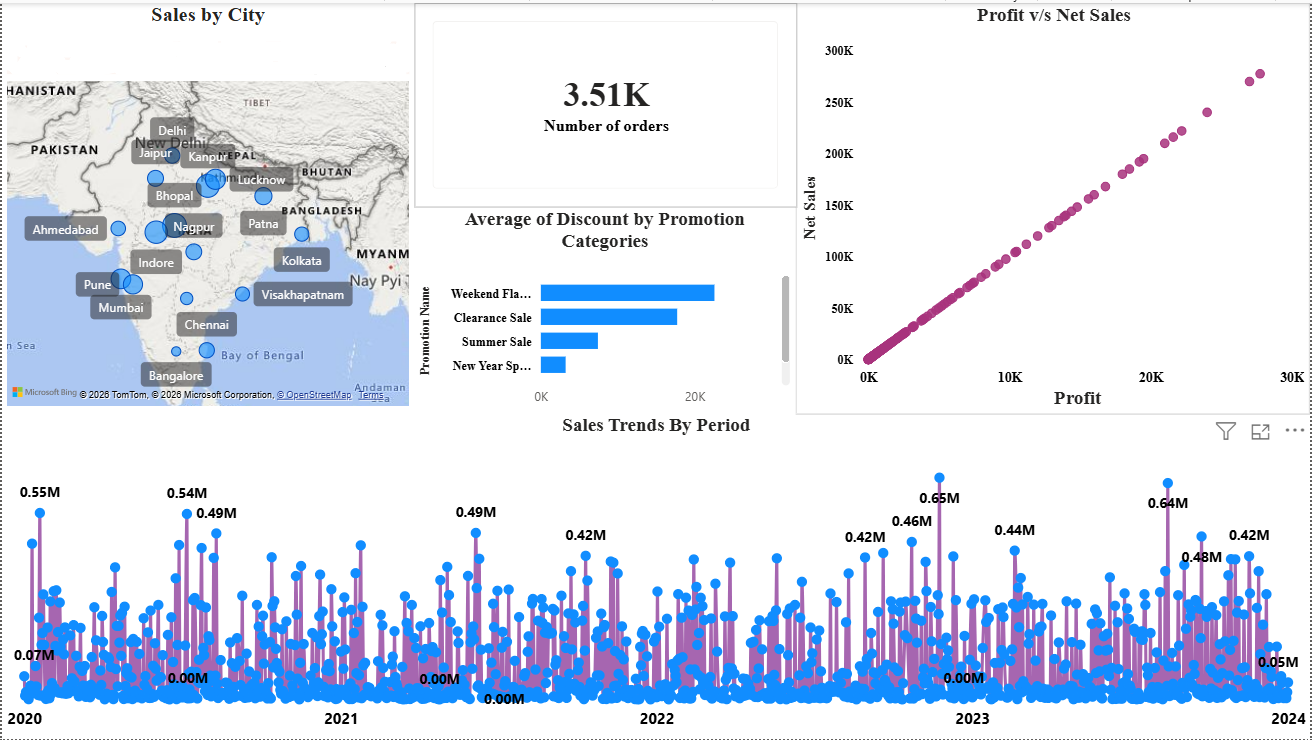

The dashboard page shown, as its layout file describes it:
{"tool":"powerbi","page":{"name":"overview","canvas":[1280,720],"ordinal":0},"visuals":[{"type":"lineChart","title":"Sales Trends By Period","fields":{"Category":["Fact Table.Date (dd/mm/yyyy).Variation.Date Hierarchy.Year"],"Y":["Sum(Fact Table.Net Sales  )"]},"box":[0,402.3,1280.3,317.9],"z":0},{"type":"scatterChart","title":"Profit v/s Net Sales  ","fields":{"X":["Fact Table.Profit"],"Y":["Fact Table.Net Sales  "]},"box":[776.2,0,503.8,402.5],"z":1000},{"type":"barChart","title":"Average of Discount by Promotion Categories","fields":{"Category":["Dim Promotion.Promotion Name"],"Y":["Avg(Fact Table.Discount)"]},"box":[403.8,200,372.5,202.5],"z":2000},{"type":"map","title":"Sales by City","fields":{"Category":["Dim Customers.City"],"Size":["Sum(Fact Table.Net Sales  )"]},"box":[0,0,403.3,400],"z":3000},{"type":"cardVisual","fields":{"Data":["Count(Fact Table.Order ID)"]},"box":[403,0,374,200],"z":4000}]}

Visuals, with their boxes in screenshot pixels (x1, y1, x2, y2), scaled from the page's 1280x720 canvas onto the 1312x740 screenshot:
"Sales Trends By Period" lineChart: crop(0, 413, 1311, 739)
"Profit v/s Net Sales  " scatterChart: crop(796, 0, 1311, 414)
"Average of Discount by Promotion Categories" barChart: crop(414, 206, 796, 414)
"Sales by City" map: crop(0, 0, 413, 411)
cardVisual - Count(Fact Table.Order ID): crop(413, 0, 796, 206)
